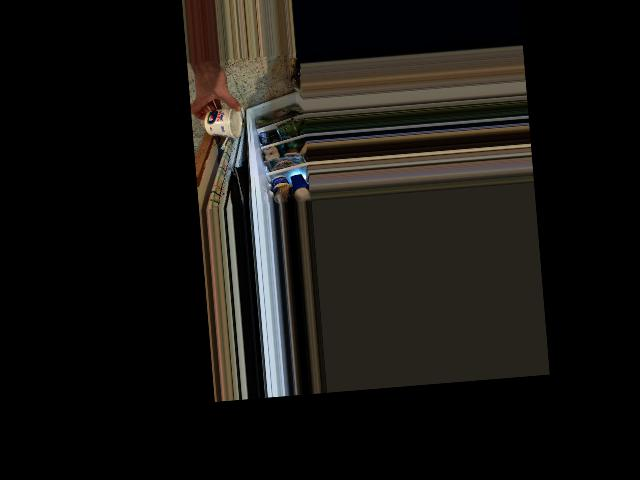cotage: (199, 98, 246, 142)
